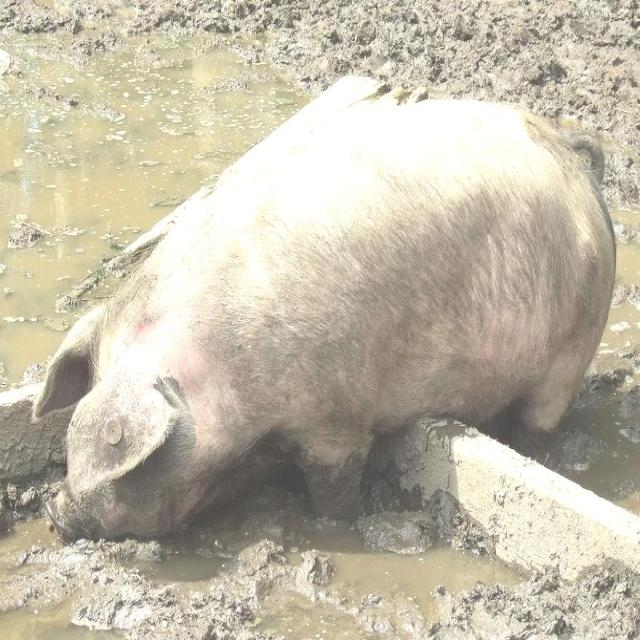pig: (35, 103, 615, 540)
